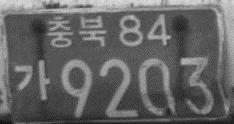0: (137, 56, 177, 117)
2: (99, 56, 139, 119)
3: (178, 55, 215, 116)
4: (146, 12, 172, 46)
8: (119, 13, 144, 47)
9: (60, 57, 92, 120)
가: (13, 58, 51, 103)
충북_O: (46, 14, 107, 48)
